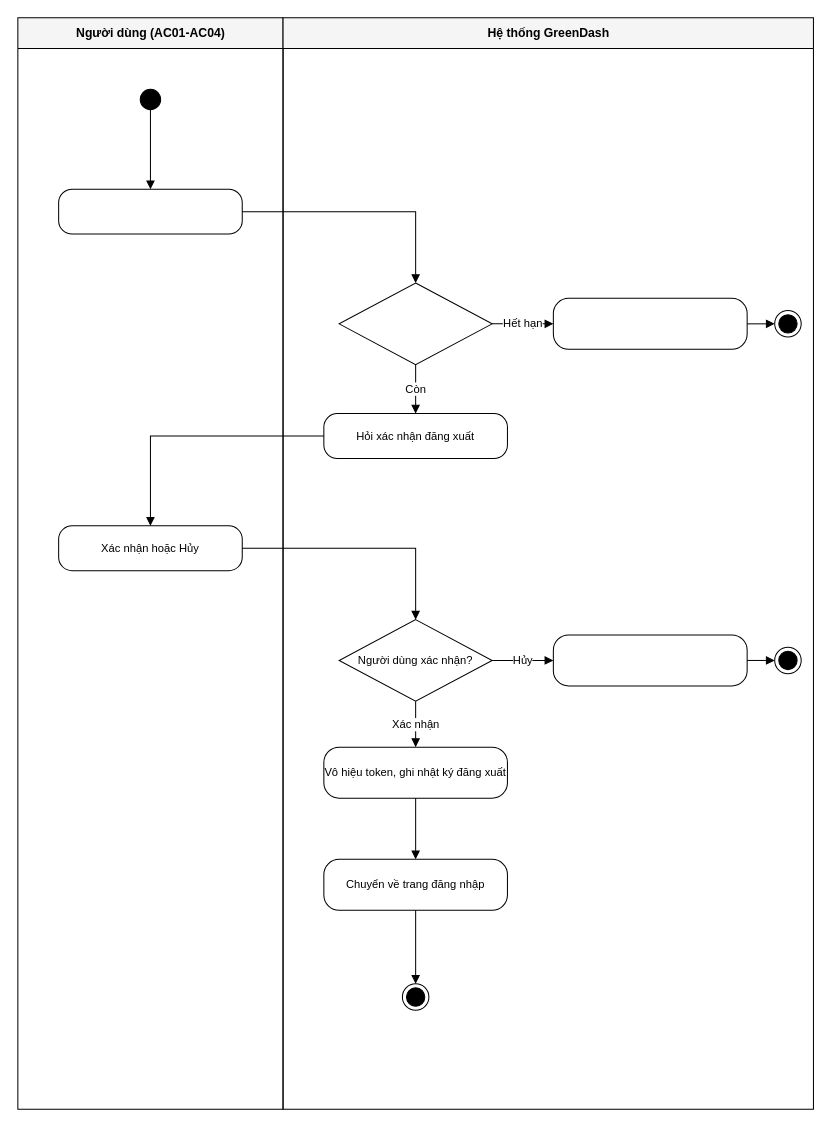
The diagram is 831 pixels wide and 1127 high, and some of its shapes have lost their labels. The shapes that lost their labels are listed below. From the top down, each one's centre as x and y in pixels, then its label:
At (x=150, y=211): "Chọn Đăng xuất".
At (x=415, y=323): "Phiên còn hiệu lực?".
At (x=649, y=323): "Chuyển thẳng về trang đăng nhập (A2)".
At (x=649, y=660): "Giữ nguyên phiên làm việc (A1)".
